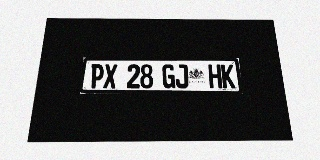2: (127, 64, 140, 88)
8: (140, 64, 153, 88)
G: (162, 64, 175, 88)
H: (208, 64, 222, 88)
J: (175, 64, 188, 88)
K: (221, 64, 235, 88)
P: (89, 64, 104, 88)
X: (103, 64, 117, 88)
